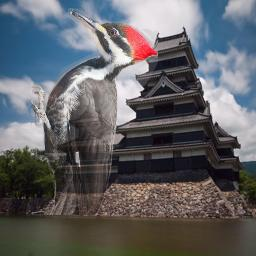Woodpecker: (31, 6, 158, 215)
